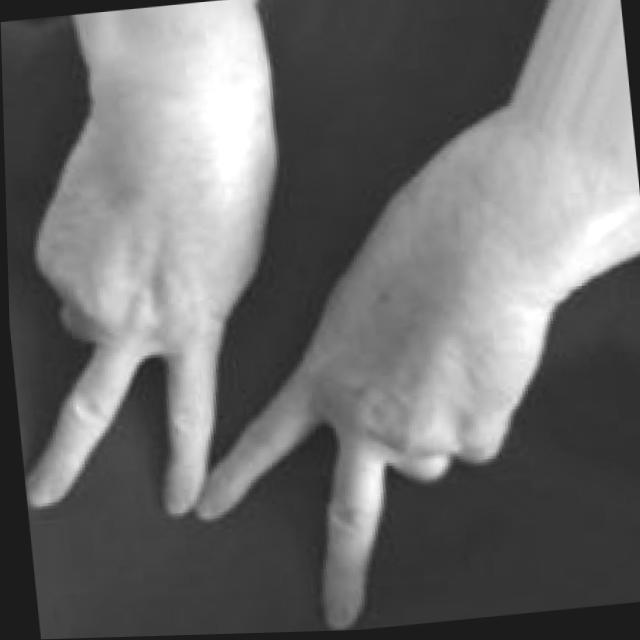M: (2, 66, 584, 640)
